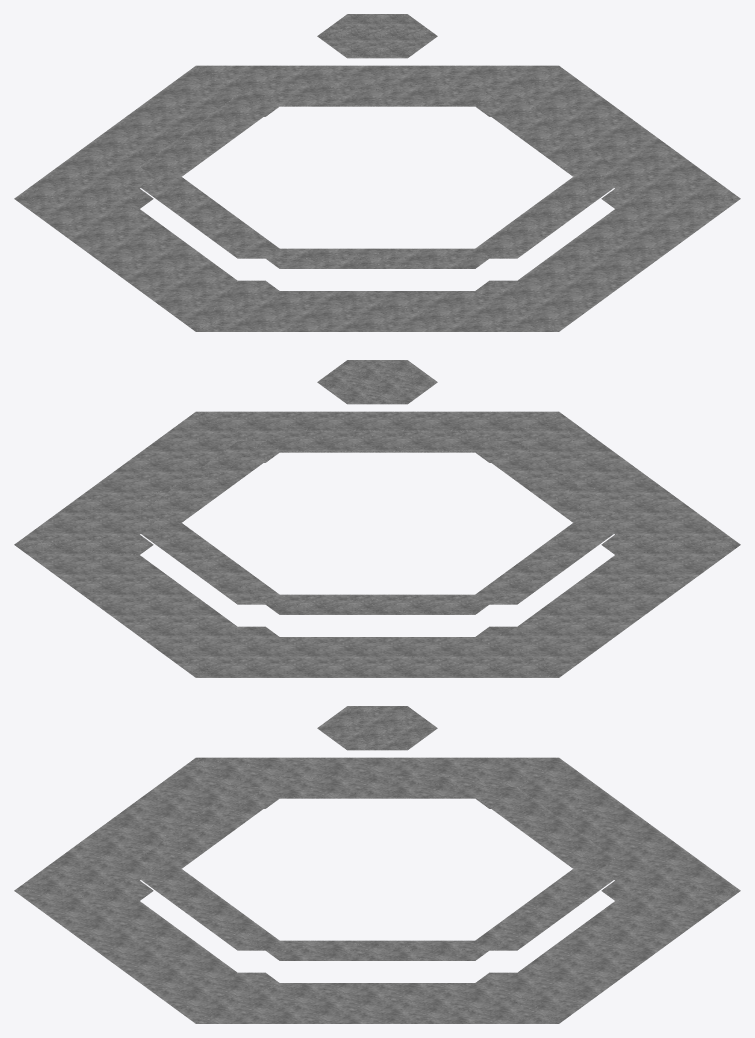
File: ceiling.obj
The picture shows the model from 3 angles, top to bottom: view 1: azimuth 30°, elevation 25°; view 2: azimuth 150°, elevation 25°; view 3: azimuth 270°, elevation 25°; orthographic projection.
Parts seen in each view (by area): view 1: Cylinder.013_Cylinder.000; view 2: Cylinder.013_Cylinder.000; view 3: Cylinder.013_Cylinder.000.
Boxes of the visible parts, x1,y1,x2,y2 form: Cylinder.013_Cylinder.000: (14,14,740,331); Cylinder.013_Cylinder.000: (14,360,740,677); Cylinder.013_Cylinder.000: (14,706,740,1023).
Size of the model in its own units: 26 by 7.41 by 30.02.
